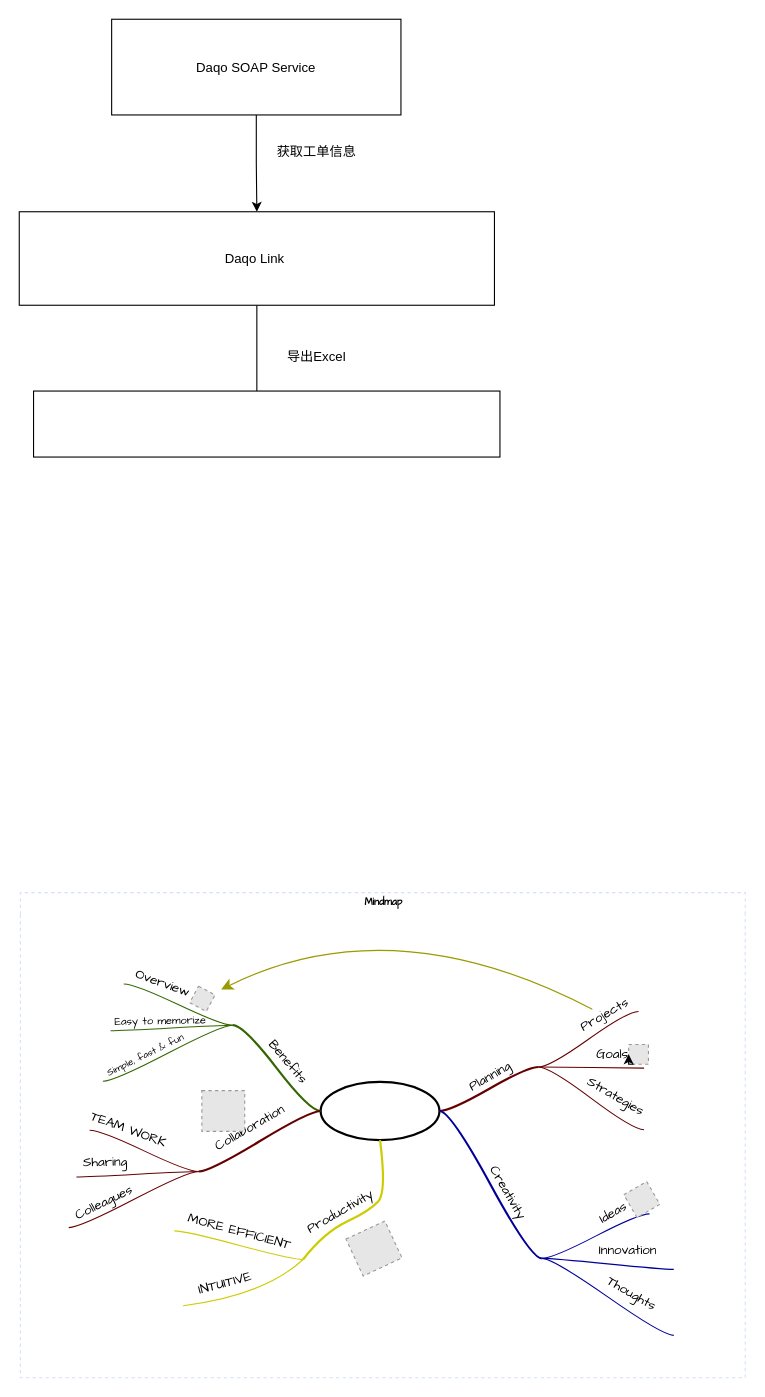
Image size: 765x1397. Some labels were removed from this diagram. Grey dashed boxes stand in for pictures. Here are the shapes that lost their labels. From the top down, the box of each, then its label:
(32, 390, 500, 457): WPCS Convertor
(319, 1080, 440, 1141): MIND MAPPING
